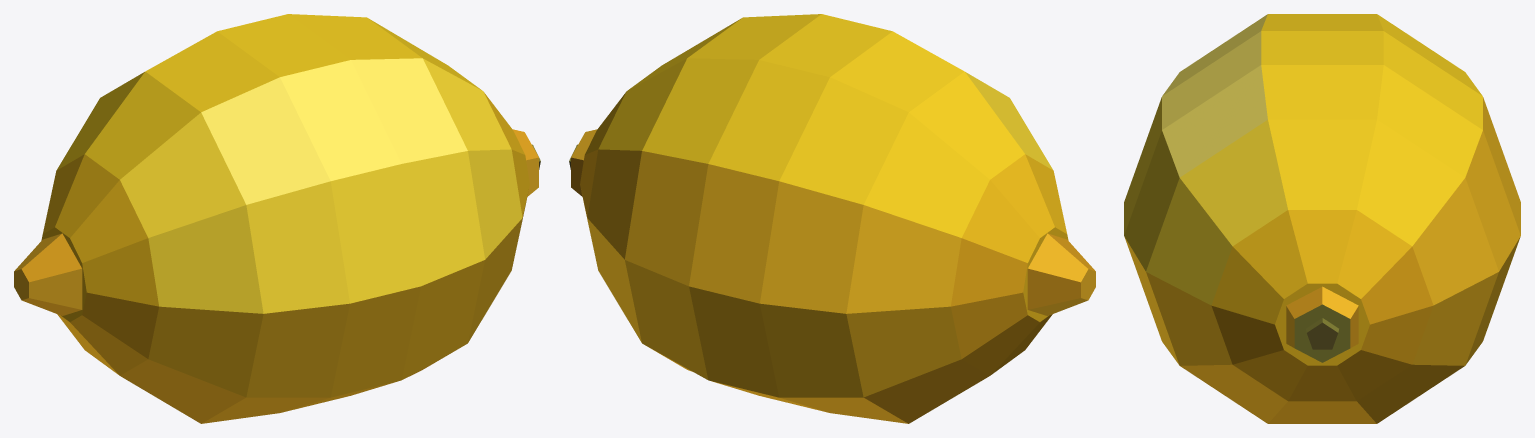
The model's file is FMS_Fruit_Lemon.fbx.
The picture shows the model from 3 angles, left to right: view 1: azimuth 30°, elevation 25°; view 2: azimuth 150°, elevation 25°; view 3: azimuth 270°, elevation 25°; orthographic projection. The views are drawn at different scales.
Parts seen in each view (by area): view 1: item_produce_lemon; view 2: item_produce_lemon; view 3: item_produce_lemon.
Part boxes in pixels (x1,y1,x2,y2): item_produce_lemon: [14, 14, 540, 423]; item_produce_lemon: [569, 14, 1095, 423]; item_produce_lemon: [1124, 14, 1520, 423].
Size of the model in its own units: 0.075 by 0.0471 by 0.0516.
Materials: 1 (1 with a texture image).
